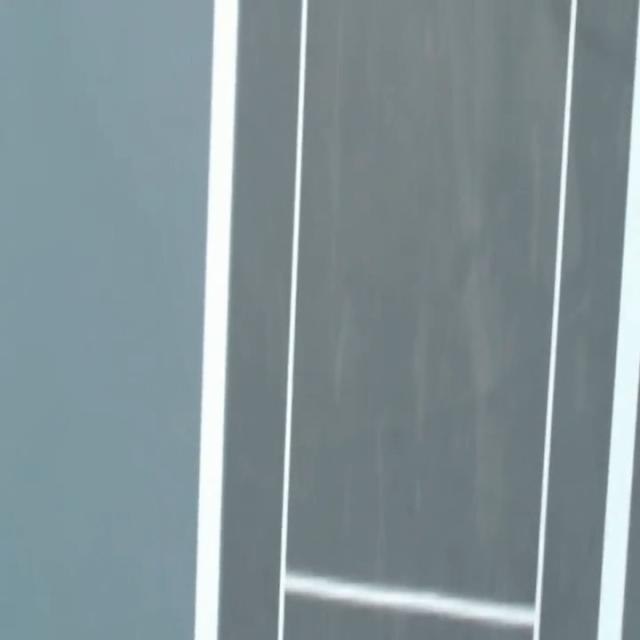center: (597, 2, 639, 639)
left: (194, 0, 238, 639)
